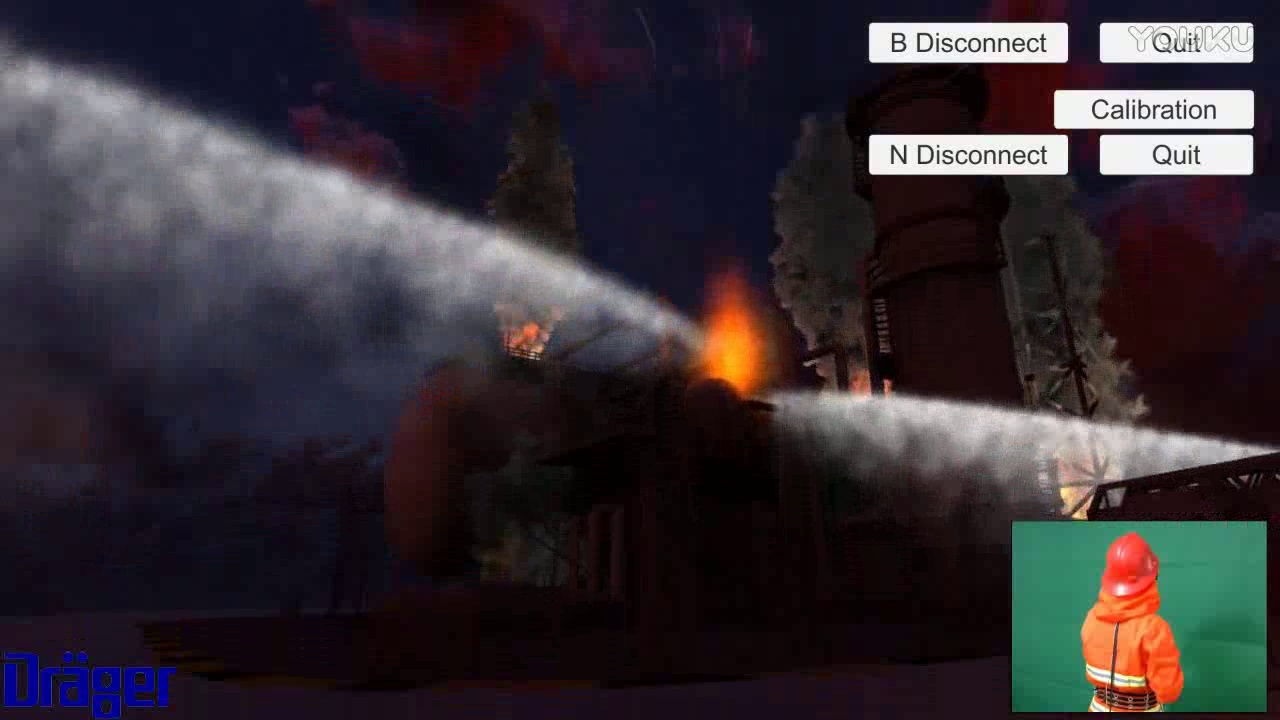fire: (684, 255, 771, 410)
